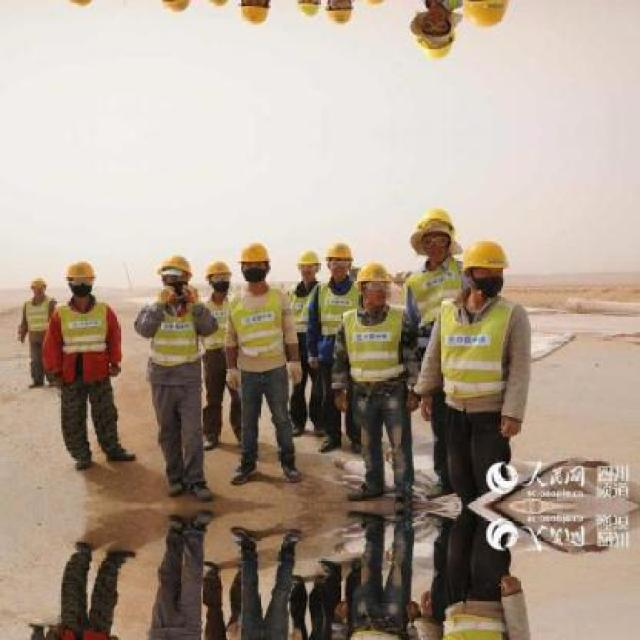helmet: (458, 233, 511, 302), (409, 201, 462, 264), (409, 1, 462, 64), (352, 256, 396, 313), (235, 235, 272, 282), (458, 0, 512, 32), (62, 255, 98, 299), (156, 250, 192, 292), (322, 237, 355, 280), (235, 0, 274, 31), (200, 255, 231, 293), (322, 0, 356, 29), (297, 249, 321, 280), (155, 0, 193, 15), (28, 274, 49, 301), (297, 0, 323, 17), (62, 0, 100, 11), (200, 0, 232, 11)
